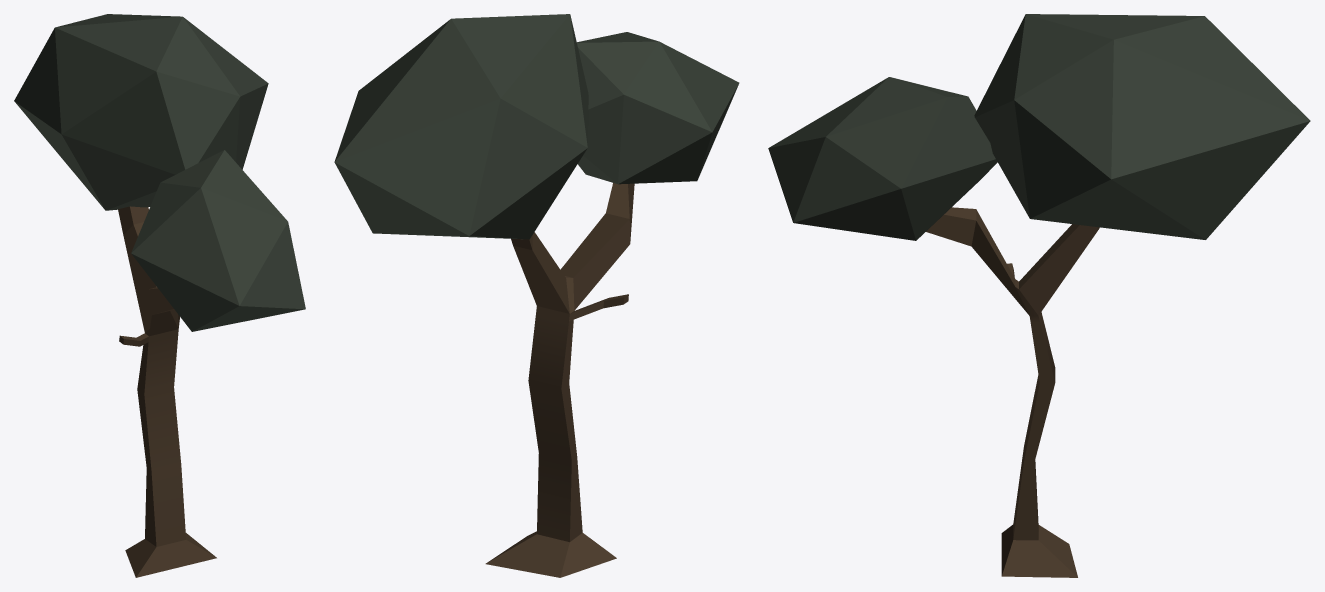
File: Tree 3.fbx
3 views of the same model, side by side, from view 1: azimuth 30°, elevation 25°; view 2: azimuth 150°, elevation 25°; view 3: azimuth 270°, elevation 25° (orthographic). The views are drawn at different scales.
Parts seen in each view (by area): view 1: pPlatonic31; view 2: pPlatonic31; view 3: pPlatonic31.
Part boxes in pixels (x1,y1,x2,y2): pPlatonic31: (14,14,305,577); pPlatonic31: (334,14,739,577); pPlatonic31: (768,14,1310,577).
Size of the model in its own units: 22.65 by 47.39 by 42.7.
